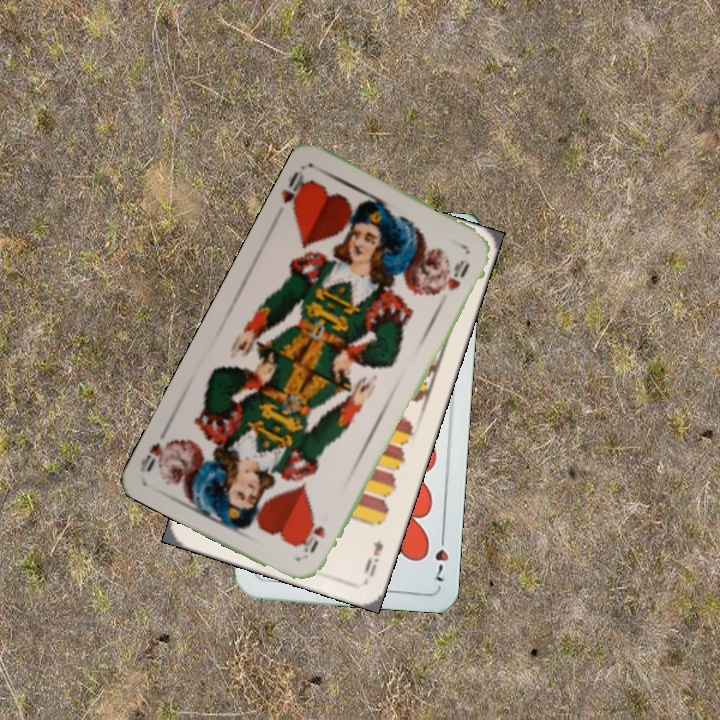E9: (360, 535, 386, 580)
H7: (431, 528, 452, 585)
HO: (277, 163, 315, 217), (299, 522, 328, 560)
